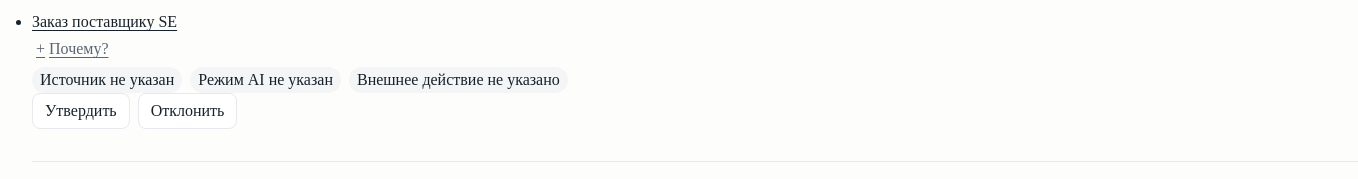
a_real action boundaries › binds approvals to the displayed version and reports 409 inline
What coordinates should you click on to do the following:
click the button "Утвердить"
I would click on:
 (81, 111)
Its box is [32,93,130,129].
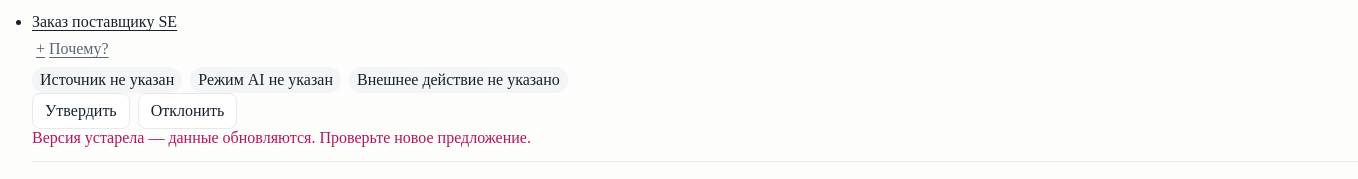
Now the text "Версия устарела — данные обновляются. Проверьте новое предложение." is shown, box [32,129,531,146]
